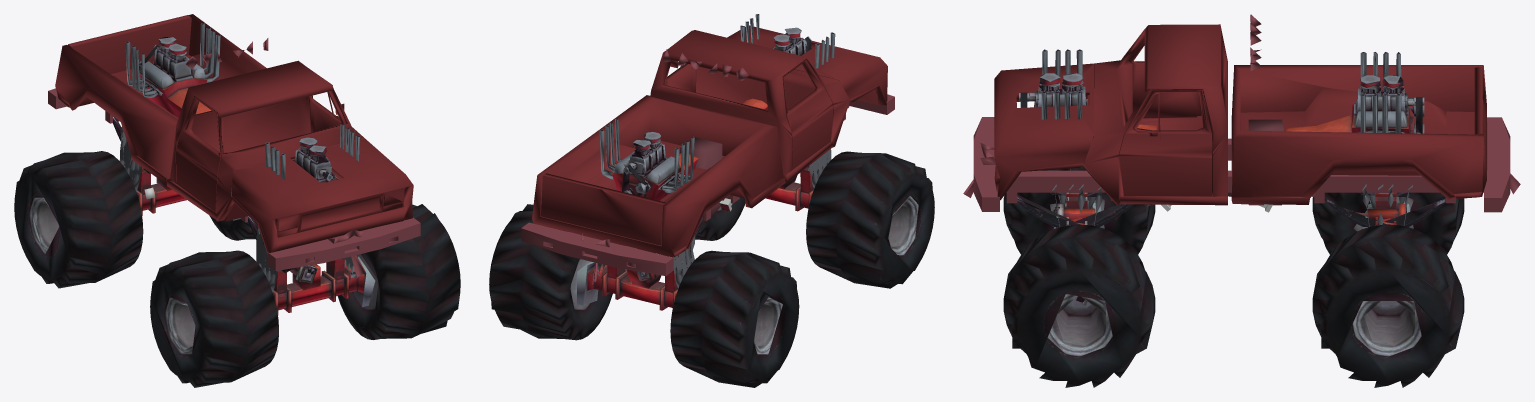
The model's file is monster.glb.
The picture shows the model from 3 angles, left to right: view 1: azimuth 30°, elevation 25°; view 2: azimuth 150°, elevation 25°; view 3: azimuth 270°, elevation 25°; orthographic projection. The views are drawn at different scales.
Visible parts, largest first — view 1: BODY, W3, W1, W0, W2; view 2: BODY, W3, W1, W2, W0; view 3: BODY, W0, W2, W3, W1.
Part boxes in pixels (x1,y1,x2,y2): BODY: [48, 14, 420, 315]; W3: [14, 151, 143, 288]; W1: [150, 250, 278, 387]; W0: [337, 204, 460, 339]; W2: [209, 215, 255, 240]; BODY: [521, 14, 894, 310]; W3: [670, 250, 799, 387]; W1: [806, 151, 934, 288]; W2: [489, 204, 612, 340]; W0: [695, 197, 745, 240]; BODY: [963, 14, 1520, 228]; W0: [1003, 224, 1155, 387]; W2: [1312, 224, 1464, 387]; W3: [1312, 192, 1464, 254]; W1: [1003, 166, 1155, 254].
Bounding box in the file's own units: 3.38 × 3.2 × 5.6.
Materials: 5 (4 with a texture image).
